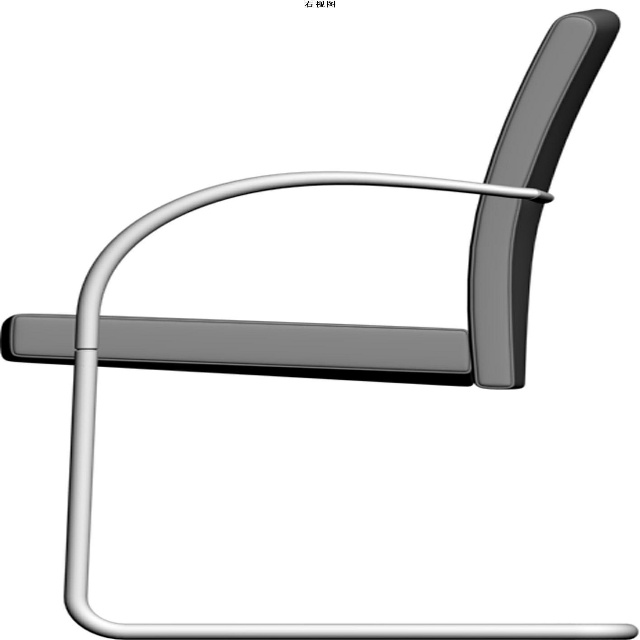obstacle: (2, 0, 638, 624)
